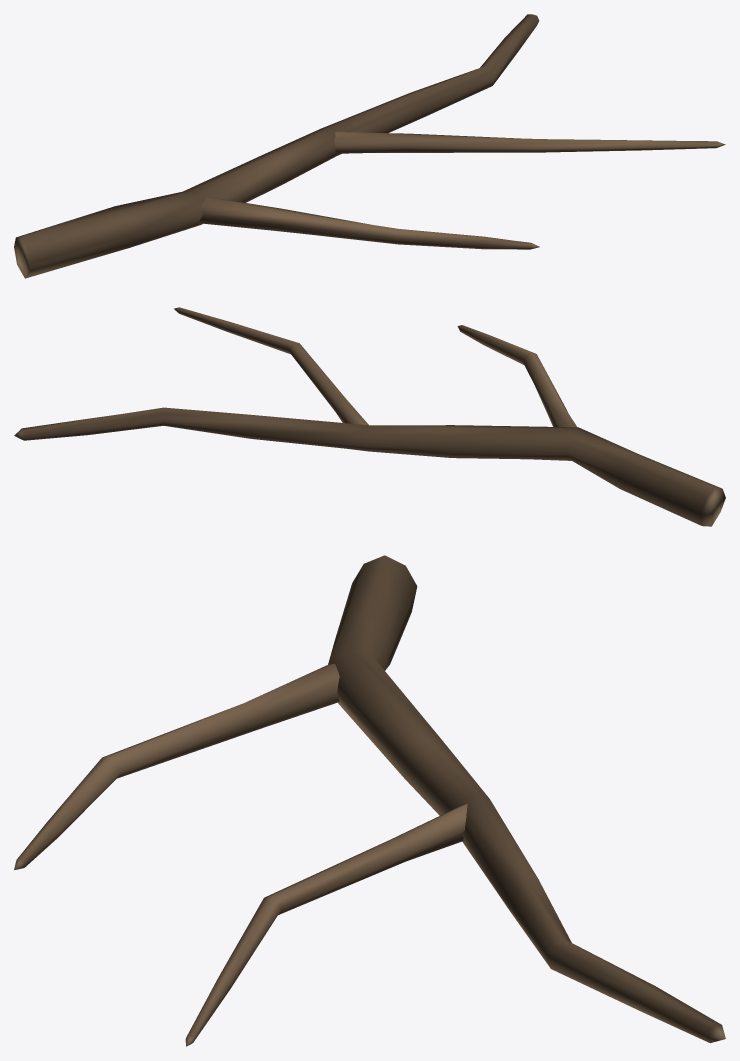
Rendered from ForestBranch_2.glb.
3 views of the same model, one above another, from view 1: azimuth 30°, elevation 25°; view 2: azimuth 150°, elevation 25°; view 3: azimuth 270°, elevation 25° (orthographic). The views are drawn at different scales.
Parts seen in each view (by area): view 1: ForestBranch_2; view 2: ForestBranch_2; view 3: ForestBranch_2.
Part boxes in pixels (left/top/right/bottom): ForestBranch_2: left=14, top=14, right=725, bottom=278; ForestBranch_2: left=14, top=307, right=725, bottom=526; ForestBranch_2: left=14, top=555, right=725, bottom=1046.
Bounding box in the file's own units: 1.37 × 0.1169 × 0.8801.
